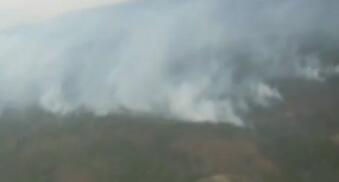yanwu: (1, 0, 336, 129)
